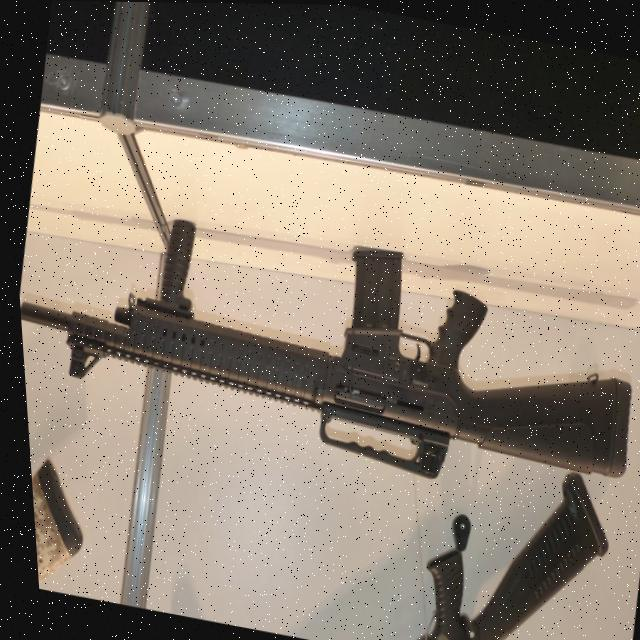firearm: (10, 186, 640, 512), (377, 442, 620, 640)
